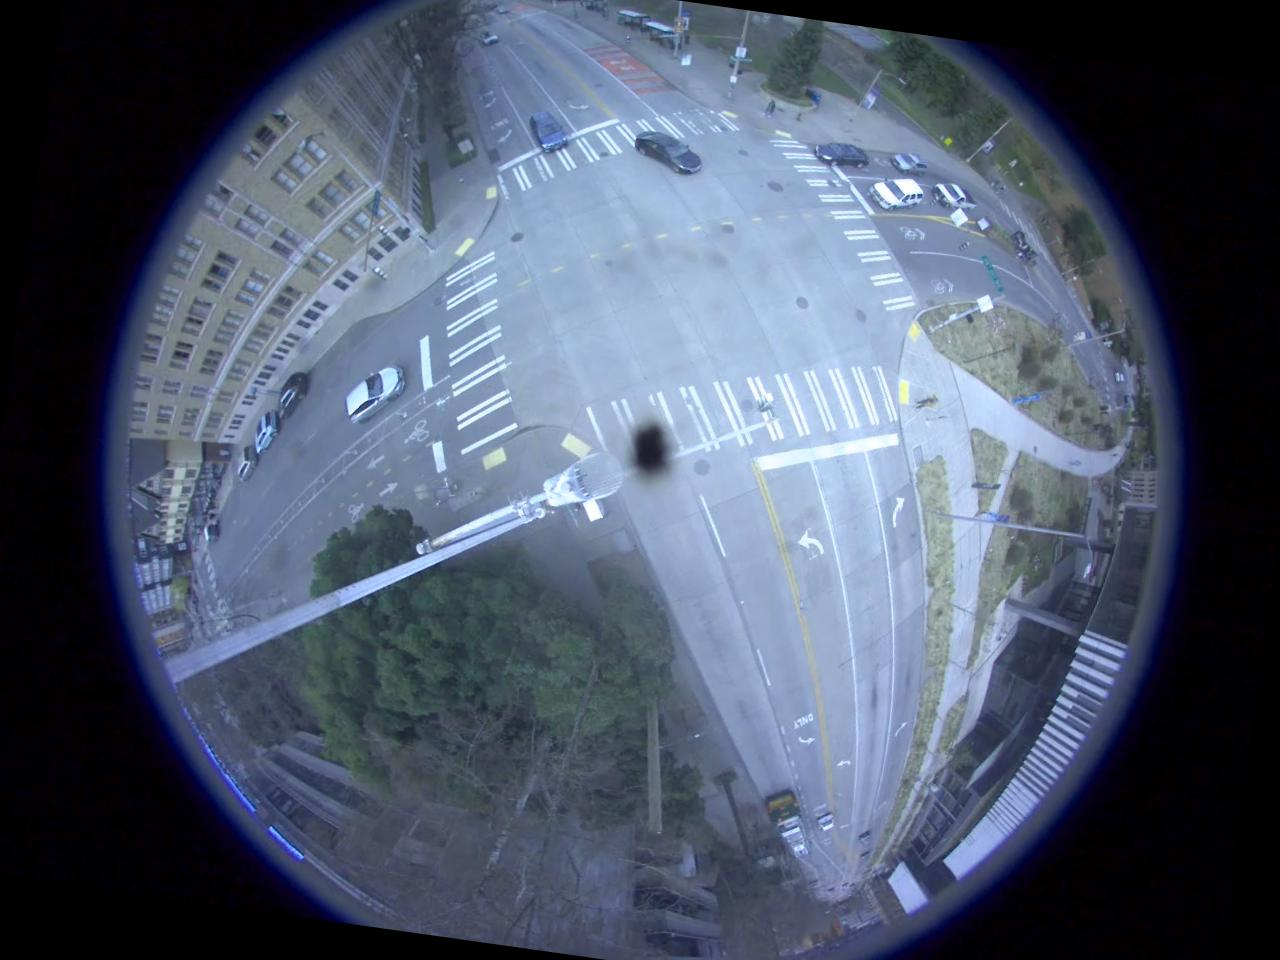bus: (757, 786, 816, 860)
car: (630, 119, 707, 182), (341, 360, 411, 426), (522, 109, 580, 163), (814, 129, 880, 172), (866, 172, 926, 210), (273, 368, 314, 420), (926, 178, 981, 216), (888, 140, 932, 176), (252, 410, 280, 459), (230, 447, 262, 485), (813, 810, 840, 836)
person: (913, 392, 944, 414), (761, 96, 782, 122)
